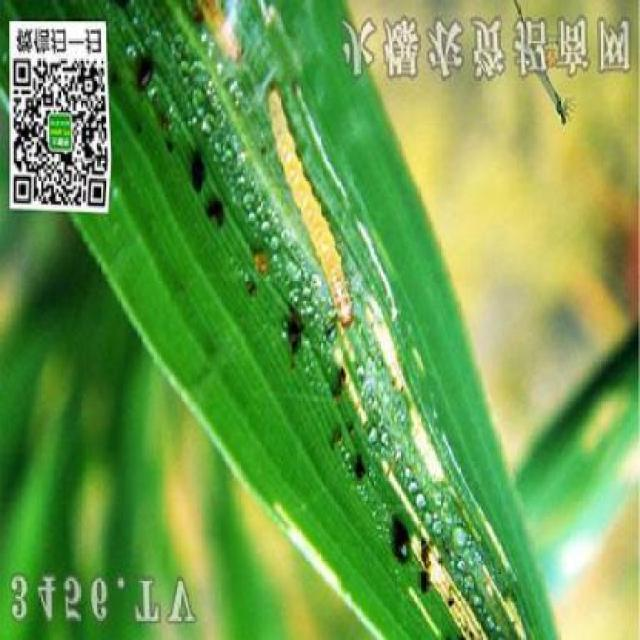leaf-folder: (260, 79, 354, 339)
